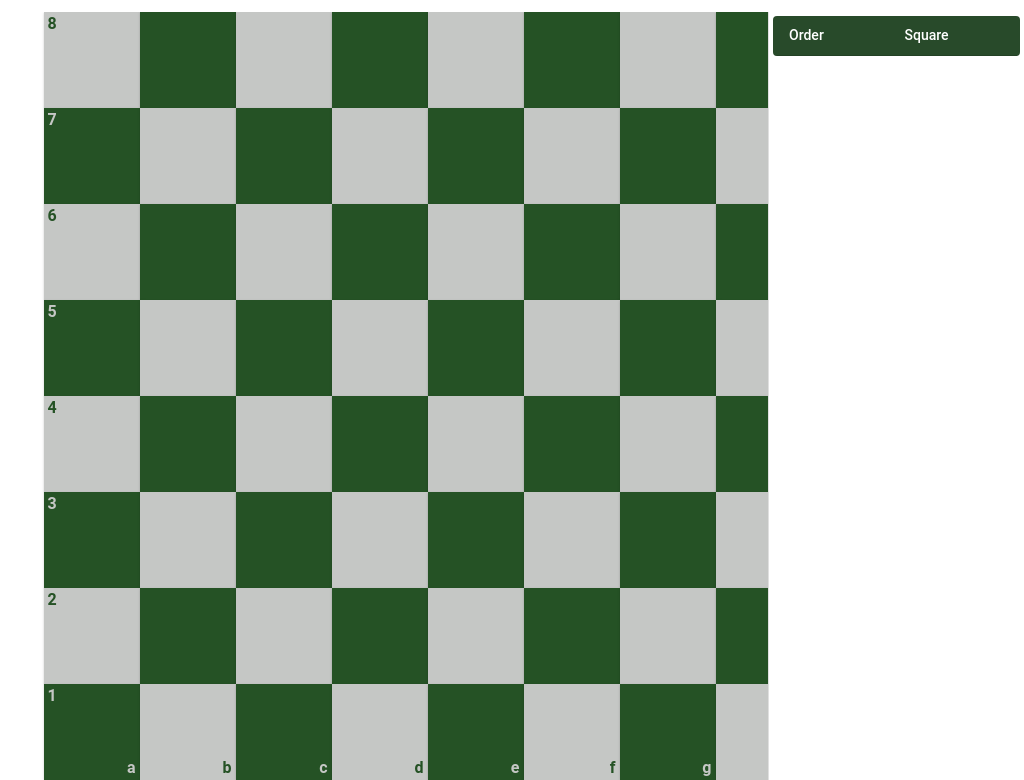
Scenario: Chess App › interacting with chessboard › adds selections when clicking square
Click the element showing "1 a": (92, 732) [44,684,140,779]
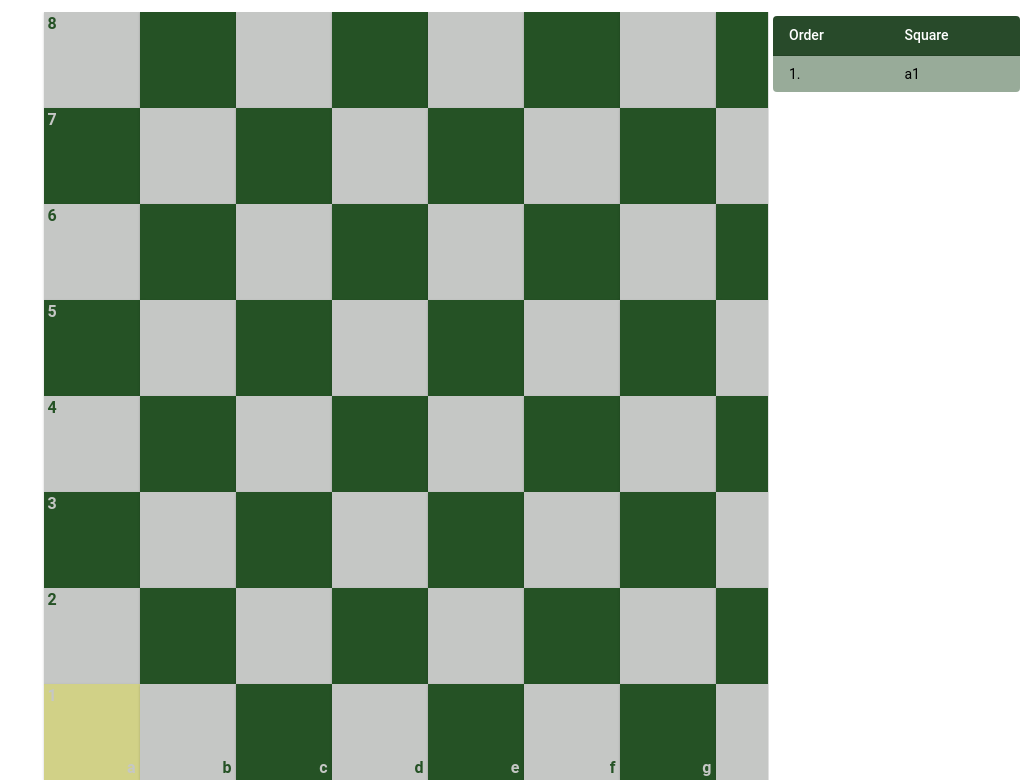
Click the element showing "2": (92, 636) [44,588,140,684]
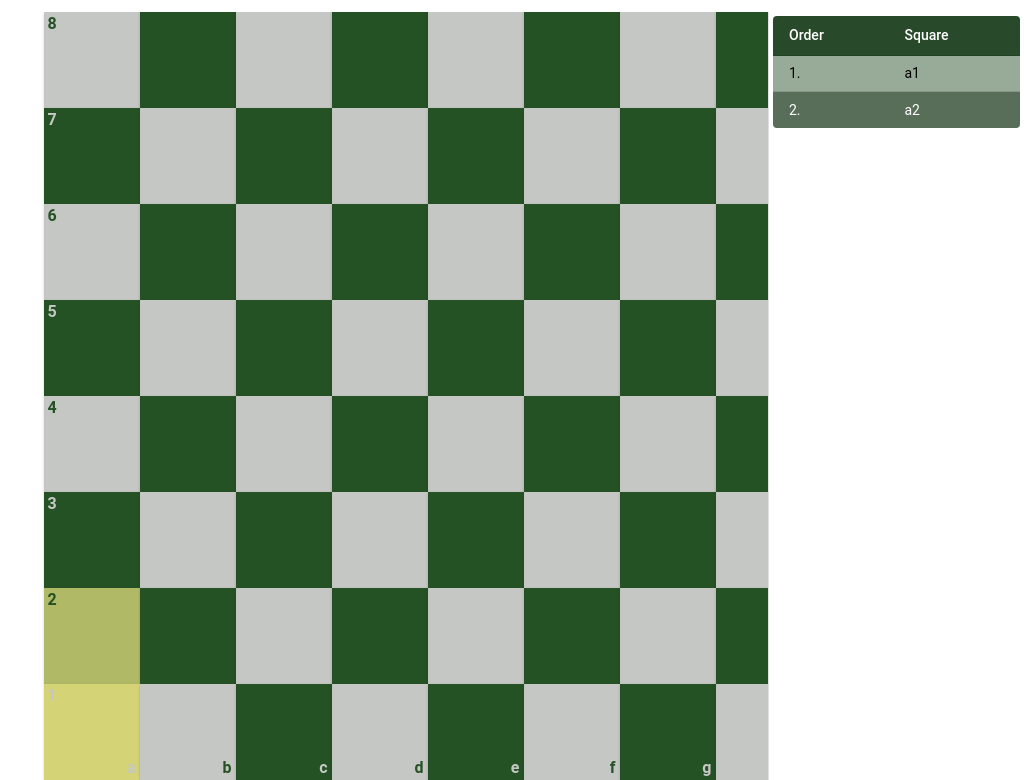
Now the number of rows is 3, box [773,16,1020,56]; [773,56,1020,92]; [773,92,1020,128]
